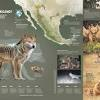Lobo: (1, 30, 40, 77)
